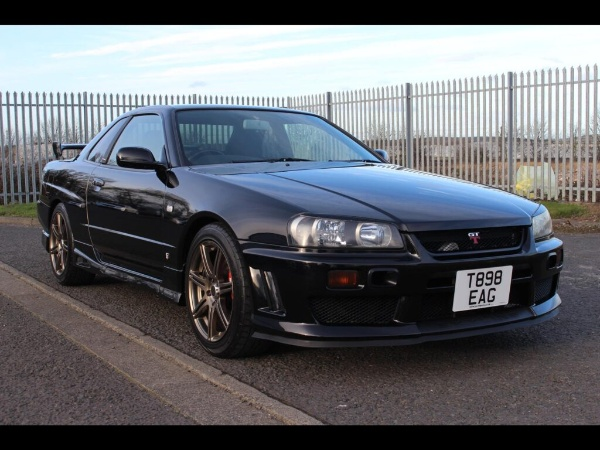licence: (455, 267, 512, 313)
